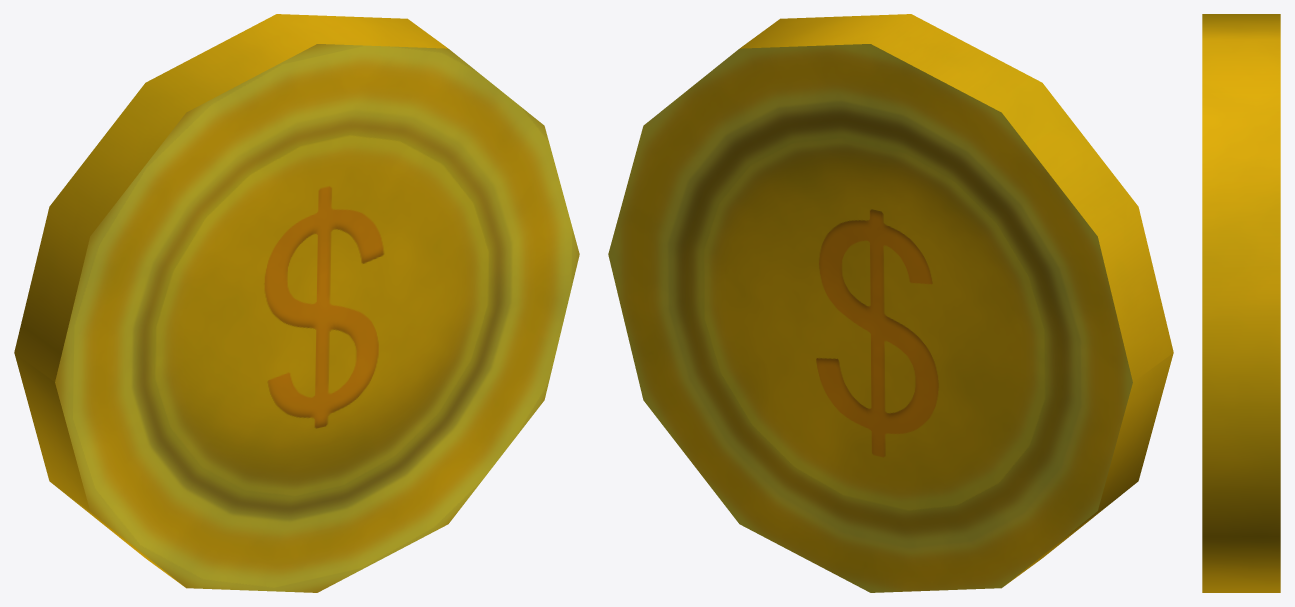
The model's file is CoinGold_LOD1.fbx.
3 renders of one model, left to right at view 1: azimuth 30°, elevation 25°; view 2: azimuth 150°, elevation 25°; view 3: azimuth 270°, elevation 25°, orthographic. The views are drawn at different scales.
Visible parts, largest first — view 1: Default_Layer; view 2: Default_Layer; view 3: Default_Layer.
Part boxes in pixels (left/top/right/bottom): Default_Layer: left=14, top=14, right=579, bottom=592; Default_Layer: left=608, top=14, right=1173, bottom=592; Default_Layer: left=1202, top=14, right=1280, bottom=592.
Bounding box in the file's own units: 41.6 × 41.6 × 5.6.
